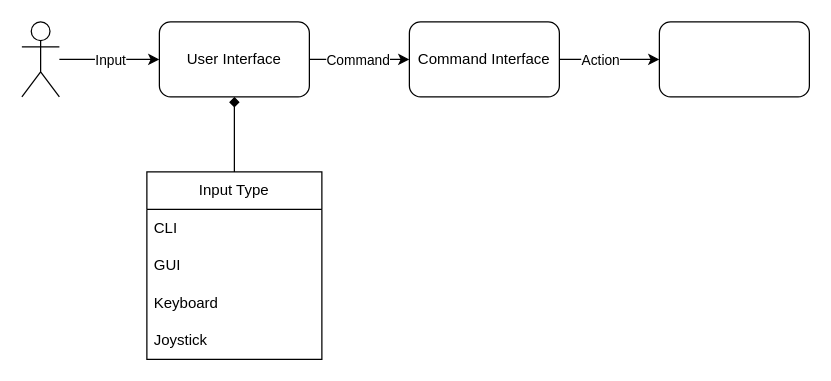
The diagram is 831 pixels wide and 381 high, and some of its shapes have lost their labels. The shapes that lost their labels are listed below. From the top down, each one's centre as x and y in pixels, then its label:
[40,59]: Actor
[733,59]: Agent
